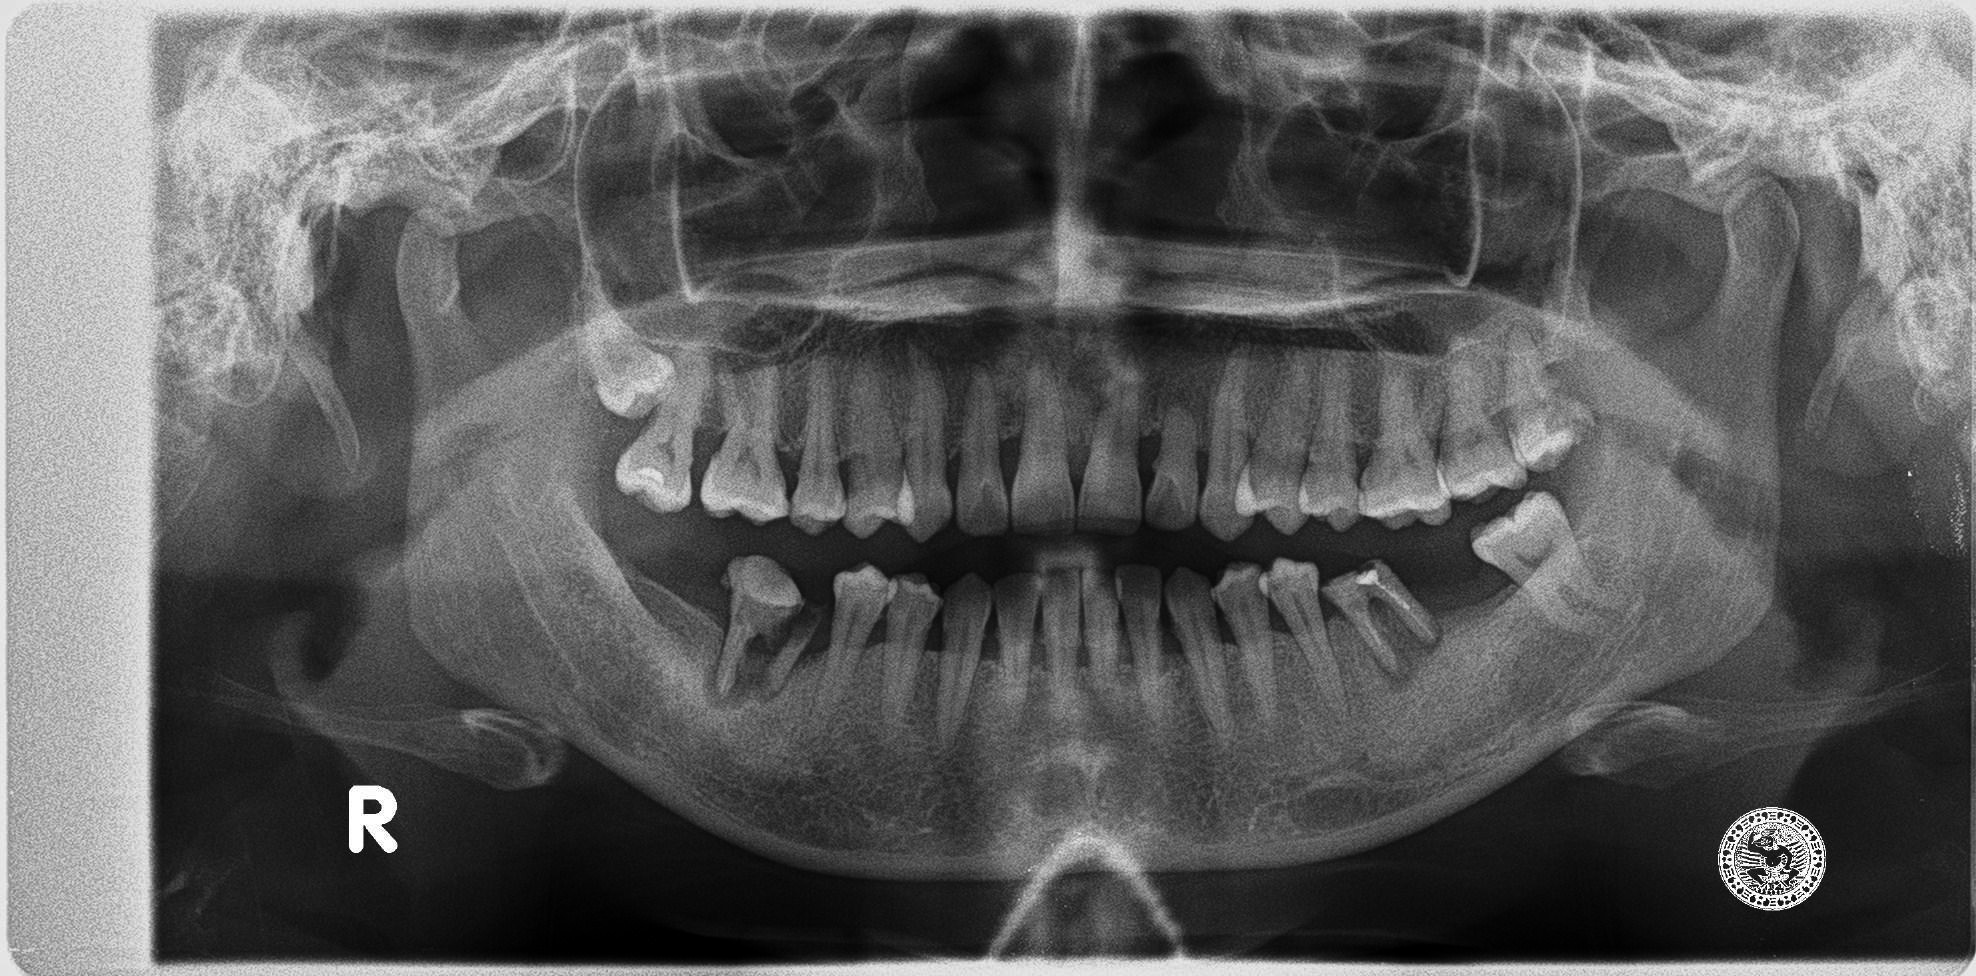Individual Tooth: (1471, 493, 1626, 636), (573, 240, 677, 419), (1358, 357, 1449, 530), (616, 351, 709, 512), (1235, 349, 1317, 531), (1258, 559, 1346, 723), (701, 367, 788, 522), (812, 564, 899, 717), (1502, 330, 1594, 472), (1321, 561, 1437, 671), (1438, 359, 1526, 499), (1009, 348, 1074, 533), (1211, 562, 1279, 735), (718, 555, 803, 692), (841, 352, 904, 536), (1164, 569, 1232, 739), (1079, 347, 1139, 533), (1198, 351, 1256, 538), (1298, 352, 1358, 531), (896, 358, 951, 541), (938, 575, 993, 747), (791, 358, 846, 532), (1144, 362, 1198, 530), (881, 576, 941, 723), (956, 366, 1008, 533), (1114, 566, 1168, 723), (994, 572, 1045, 726), (1080, 567, 1122, 728), (1038, 567, 1081, 721), (762, 607, 823, 695)
